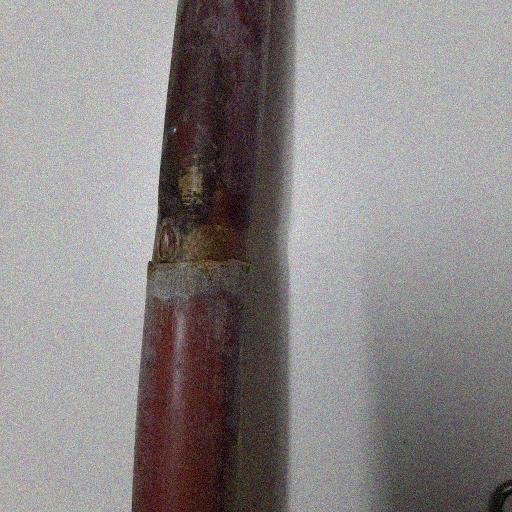Bud: (154, 221, 181, 262)
